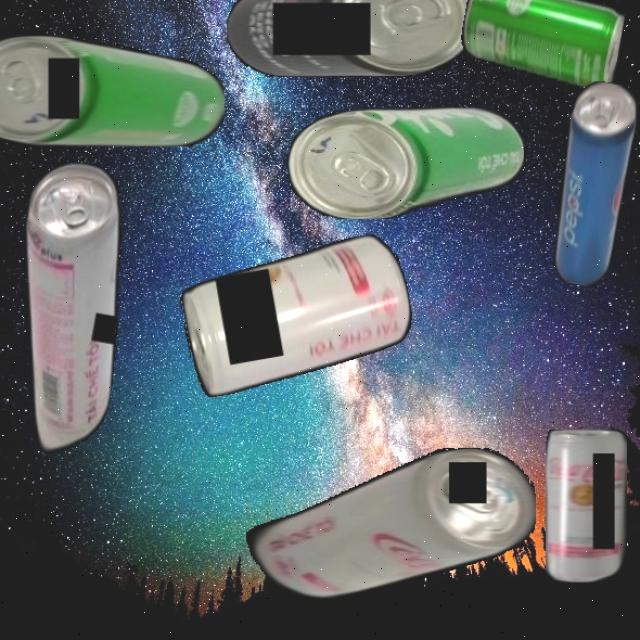debris: (232, 448, 536, 600), (0, 155, 149, 462), (174, 230, 420, 399), (287, 106, 524, 219), (0, 35, 225, 146), (542, 78, 640, 290), (226, 0, 473, 77), (457, 0, 627, 91), (546, 428, 627, 582)
